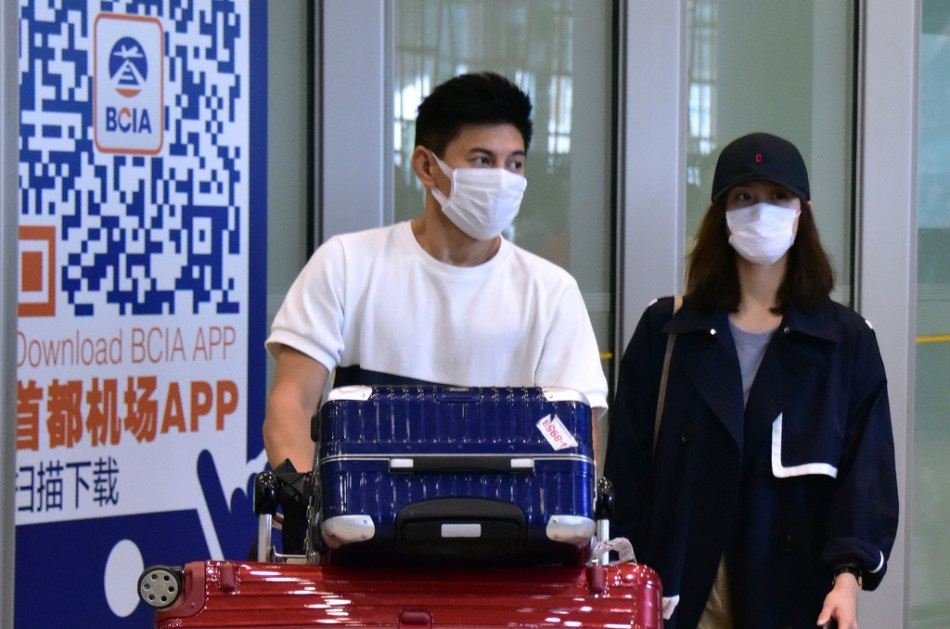face_mask: (441, 125, 527, 241), (726, 170, 802, 263)
